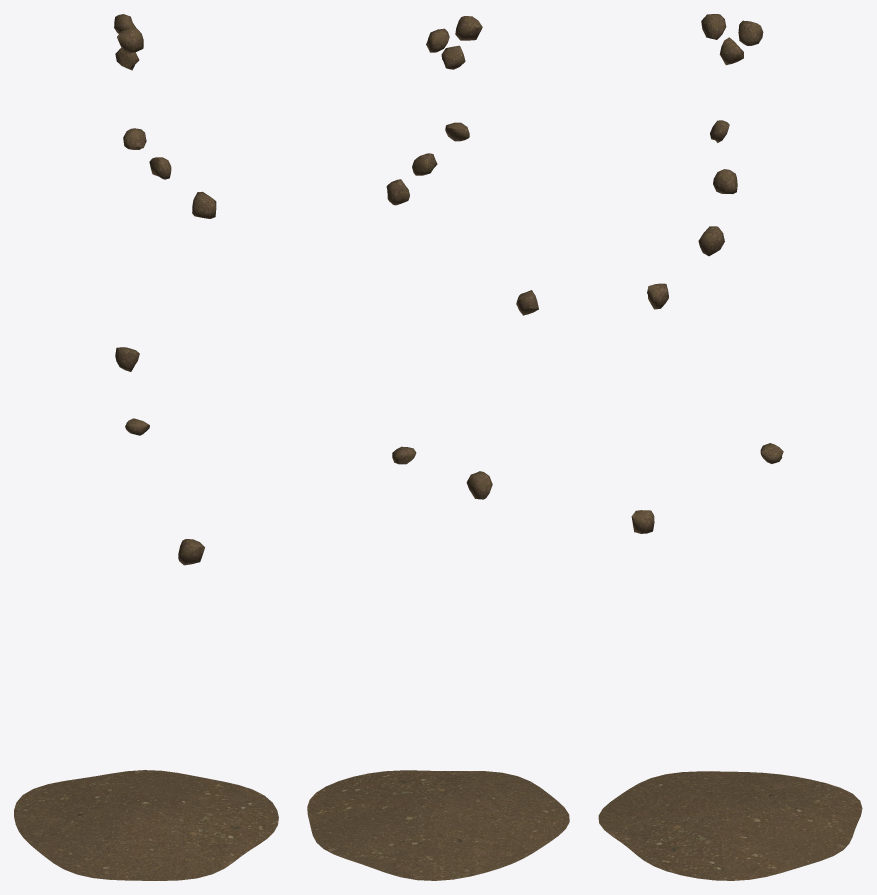
File: PAV-BAS-003_anim.glb
3 renders of one model, left to right at view 1: azimuth 30°, elevation 25°; view 2: azimuth 150°, elevation 25°; view 3: azimuth 270°, elevation 25°, orthographic.
Visible parts, largest first — view 1: PAV-BAS-003_anim_monte, PAV-BAS-003_anim_t0, PAV-BAS-003_anim_t4, PAV-BAS-003_anim_t8; view 2: PAV-BAS-003_anim_monte, PAV-BAS-003_anim_t0, PAV-BAS-003_anim_t8; view 3: PAV-BAS-003_anim_monte, PAV-BAS-003_anim_t4.
Part boxes in pixels (<box>): PAV-BAS-003_anim_monte: <box>14,770,278,880</box>; PAV-BAS-003_anim_t0: <box>178,539,204,565</box>; PAV-BAS-003_anim_t4: <box>192,191,216,218</box>; PAV-BAS-003_anim_t8: <box>117,28,143,53</box>; PAV-BAS-003_anim_monte: <box>307,770,569,880</box>; PAV-BAS-003_anim_t0: <box>466,471,492,499</box>; PAV-BAS-003_anim_t8: <box>455,16,482,40</box>; PAV-BAS-003_anim_monte: <box>598,771,862,880</box>; PAV-BAS-003_anim_t4: <box>698,226,724,256</box>.
Bounding box in the file's own units: 0.4469 × 1.52 × 0.4549.
1 material, 1 textured.
